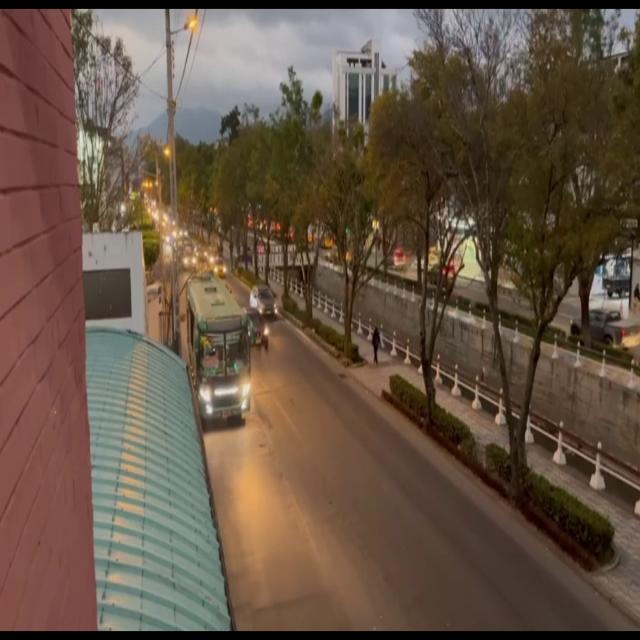BUS: (188, 282, 253, 422)
